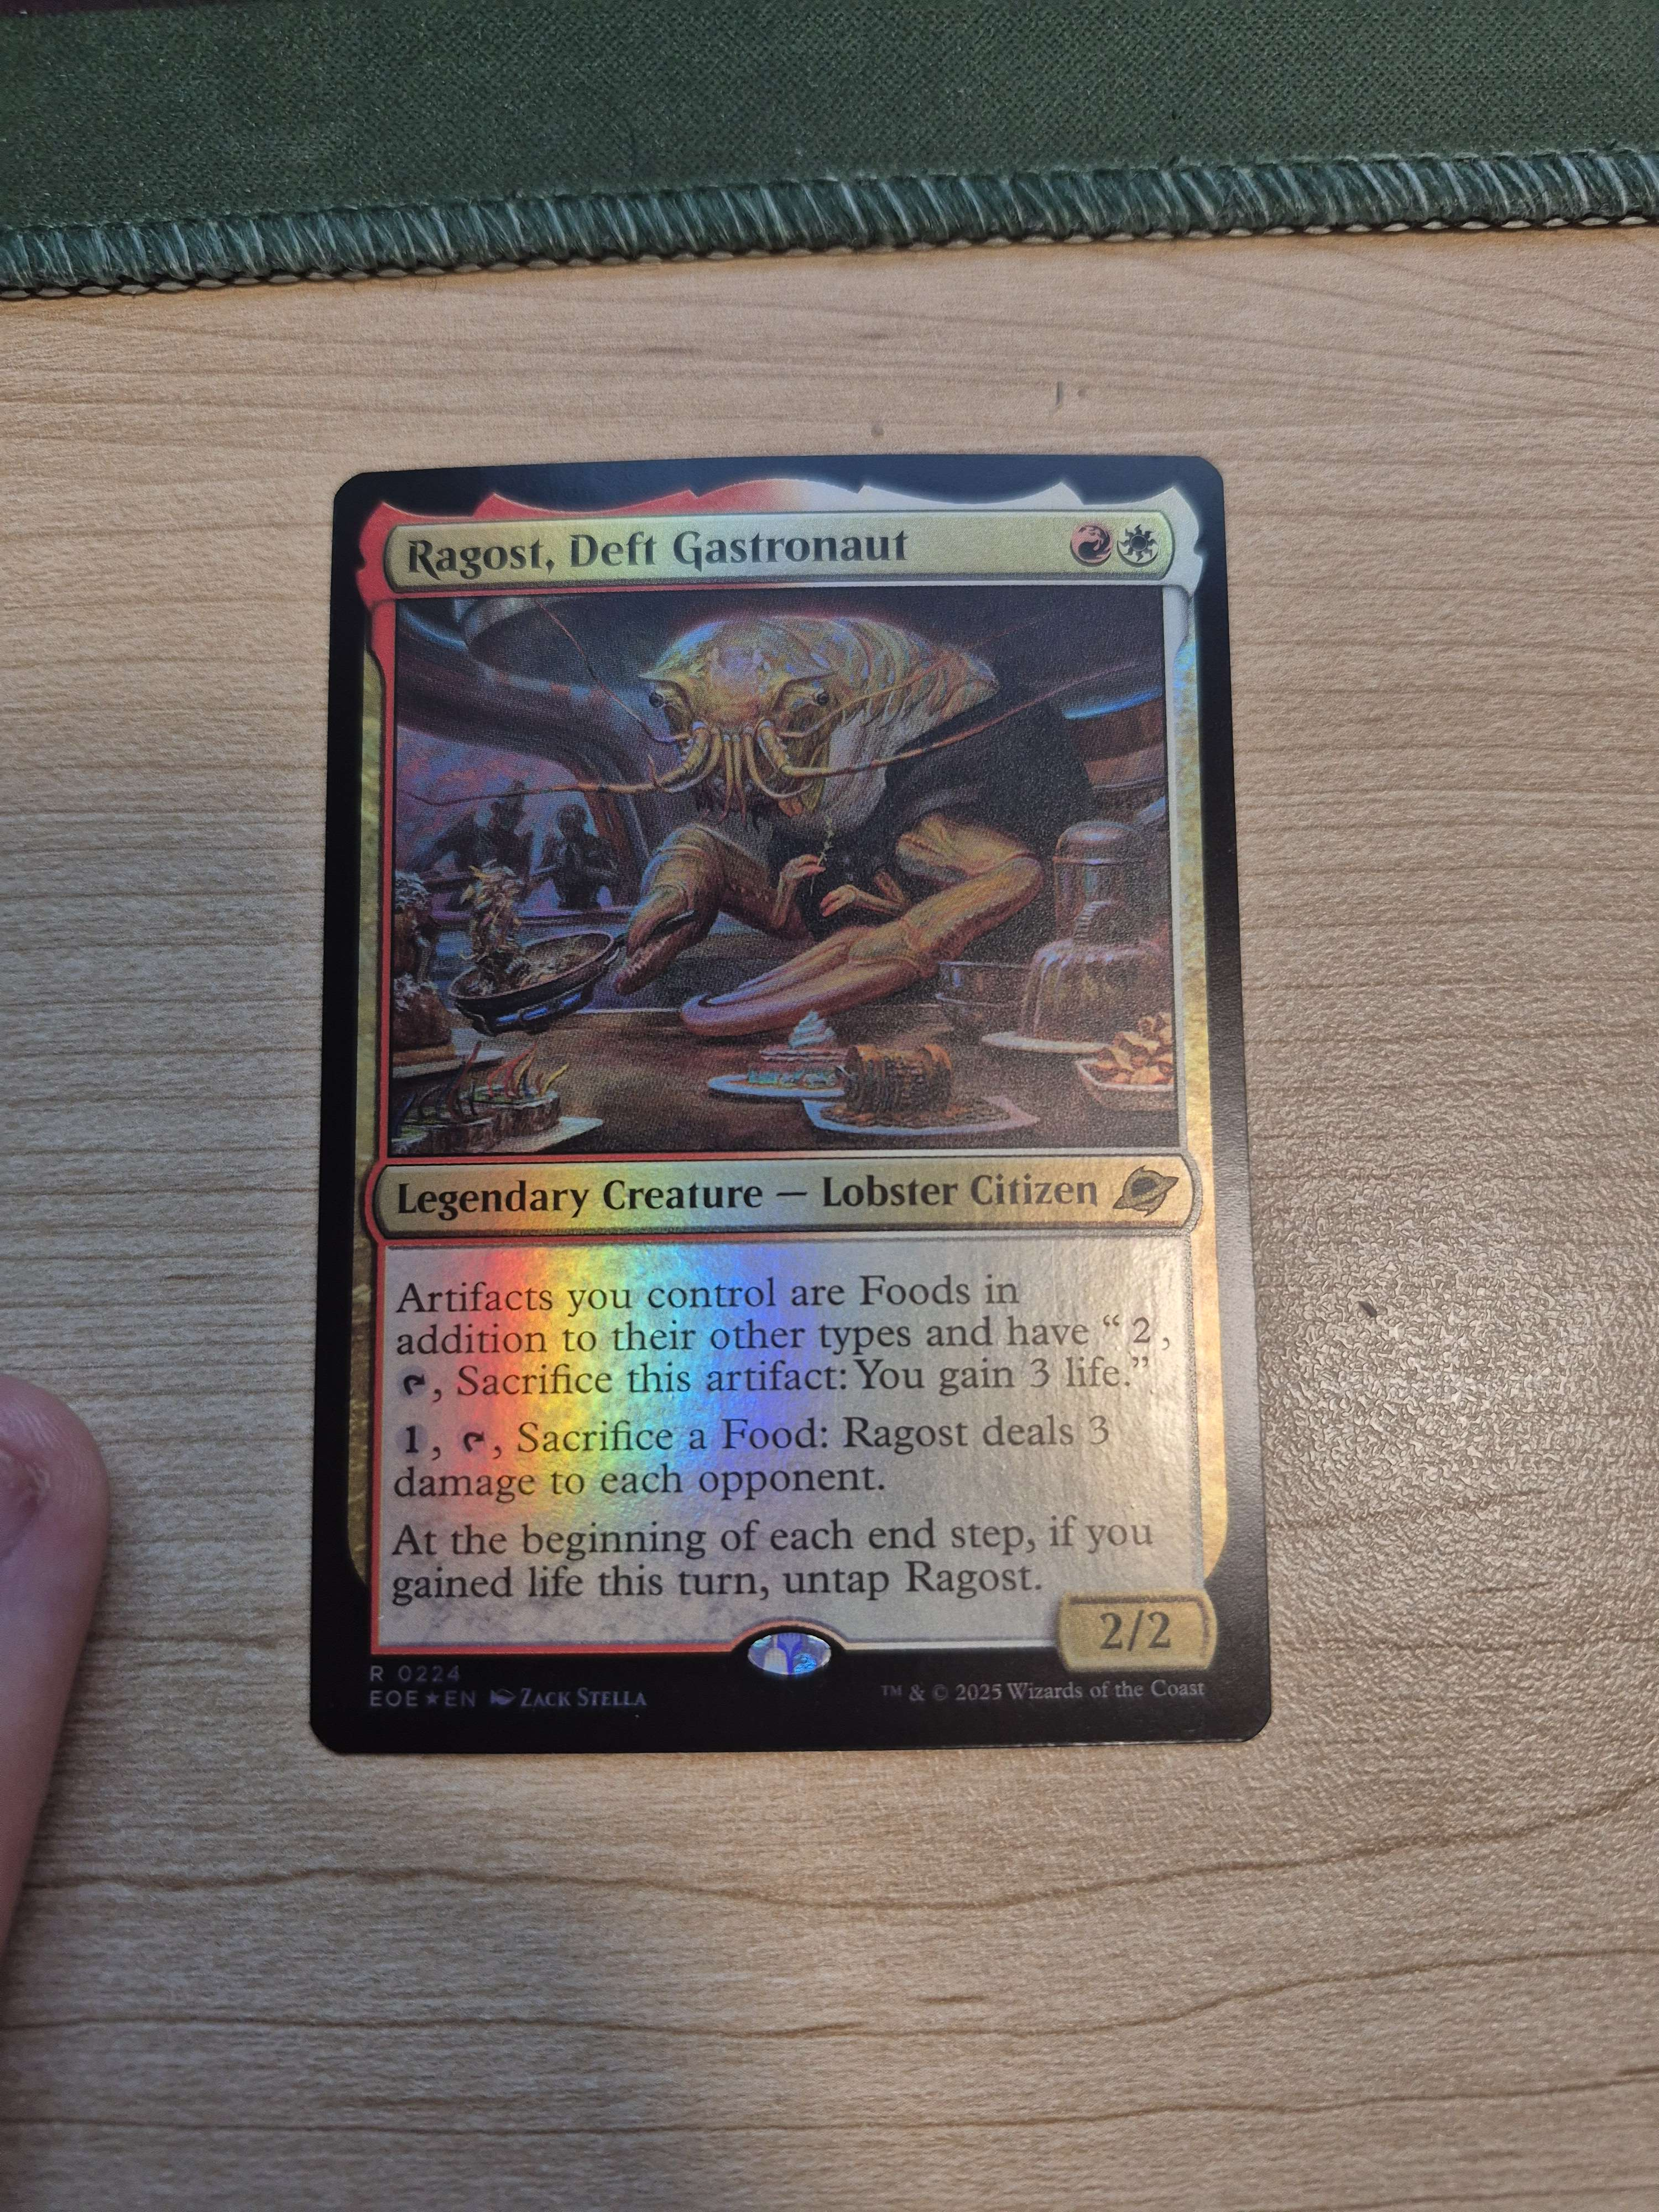mtg_card: (326, 474, 1269, 1719)
